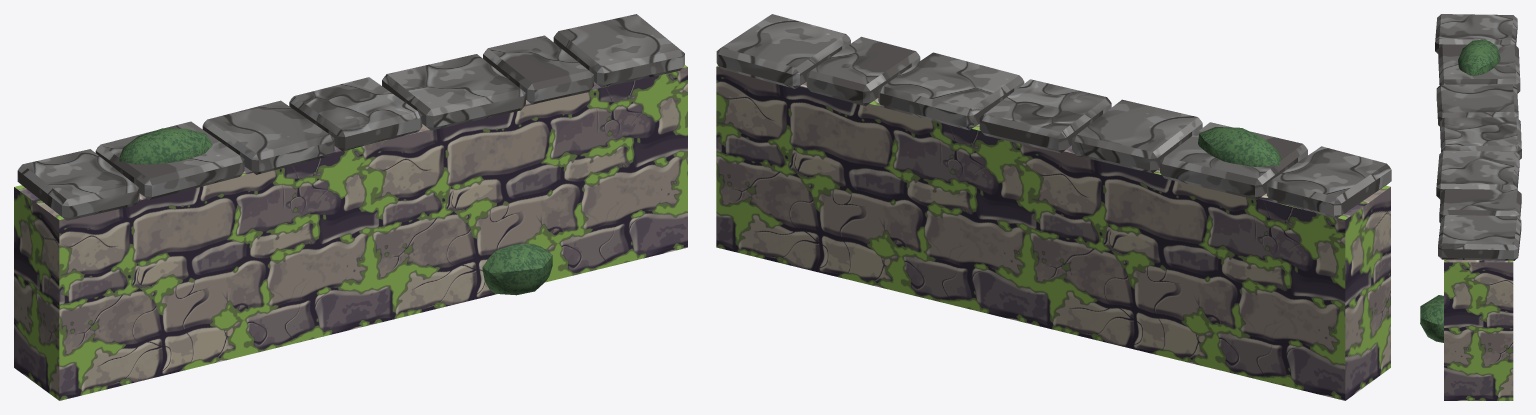
The model's file is stone_wall_straight.glb.
3 views of the same model, side by side, from view 1: azimuth 30°, elevation 25°; view 2: azimuth 150°, elevation 25°; view 3: azimuth 270°, elevation 25° (orthographic). The views are drawn at different scales.
Parts seen in each view (by area): view 1: Wall; view 2: Wall; view 3: Wall.
Part boxes in pixels (<box>): Wall: <box>14,14,687,400</box>; Wall: <box>716,14,1391,400</box>; Wall: <box>1420,14,1521,400</box>.
Bounding box in the file's own units: 4 × 1.35 × 0.7319.
Materials: 3 (3 with a texture image).
